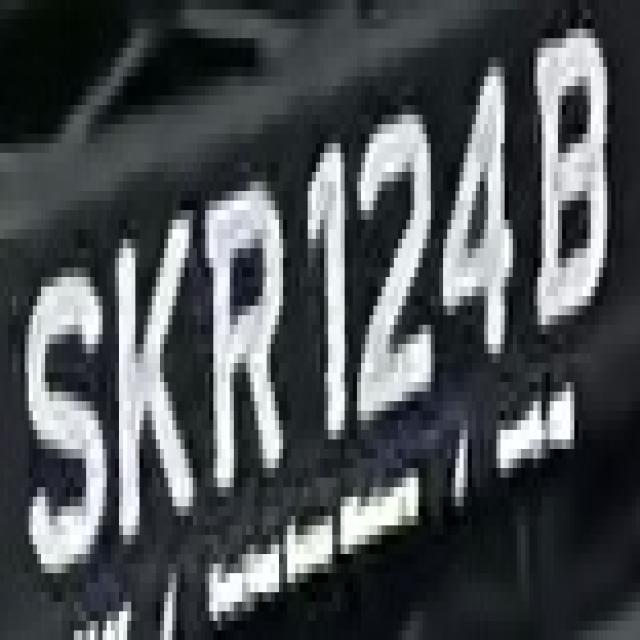1: (296, 124, 365, 516)
2: (344, 76, 435, 430)
4: (431, 38, 517, 392)
B: (521, 29, 607, 334)
K: (106, 182, 188, 564)
R: (181, 182, 283, 496)
S: (24, 219, 110, 602)
